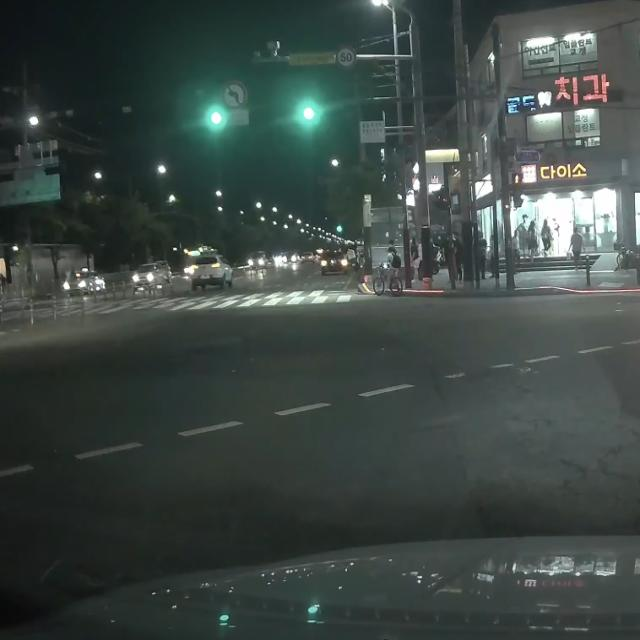Green Light: (298, 102, 319, 125), (206, 109, 224, 129), (335, 224, 344, 234)
